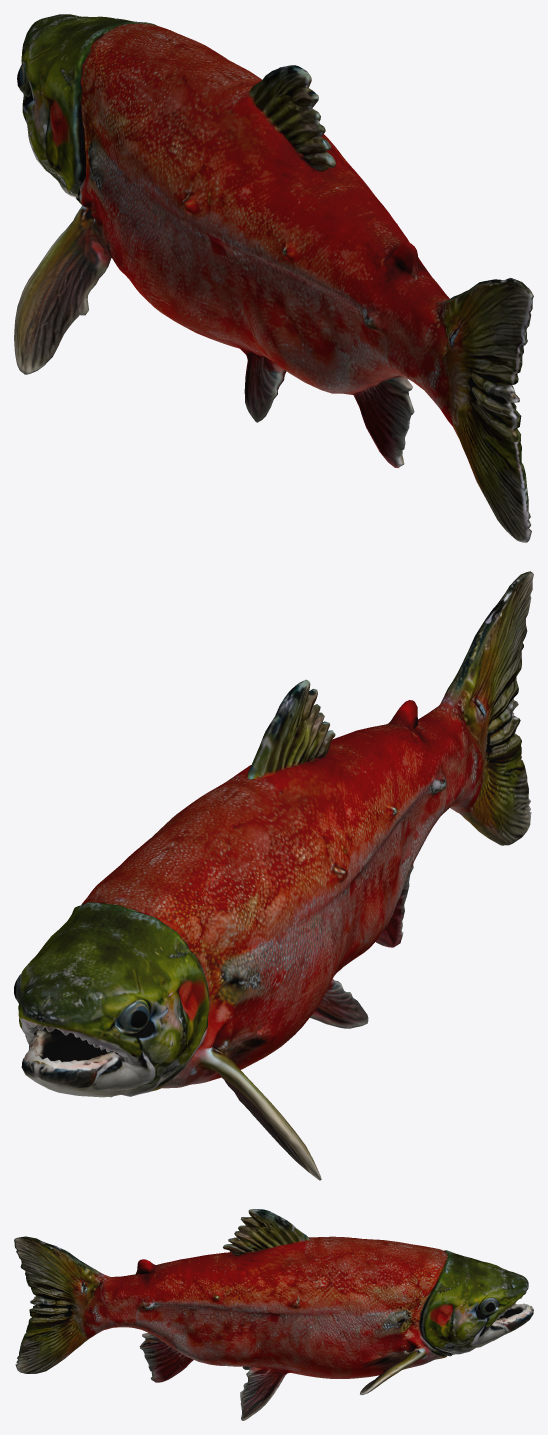
Rendered from sockeye_tripo.glb.
3 views of the same model, one above another, from view 1: azimuth 30°, elevation 25°; view 2: azimuth 150°, elevation 25°; view 3: azimuth 270°, elevation 25° (orthographic). The views are drawn at different scales.
Visible parts, largest first — view 1: tripo_node_d7f7adce-60f9-41bd-9166-2c792dbaba11; view 2: tripo_node_d7f7adce-60f9-41bd-9166-2c792dbaba11; view 3: tripo_node_d7f7adce-60f9-41bd-9166-2c792dbaba11.
Part boxes in pixels (x1,y1,x2,y2): tripo_node_d7f7adce-60f9-41bd-9166-2c792dbaba11: (14, 14, 533, 542); tripo_node_d7f7adce-60f9-41bd-9166-2c792dbaba11: (14, 571, 533, 1180); tripo_node_d7f7adce-60f9-41bd-9166-2c792dbaba11: (14, 1209, 533, 1420).
Bounding box in the file's own units: 0.3563 × 0.4073 × 1.
1 material, 1 textured.
